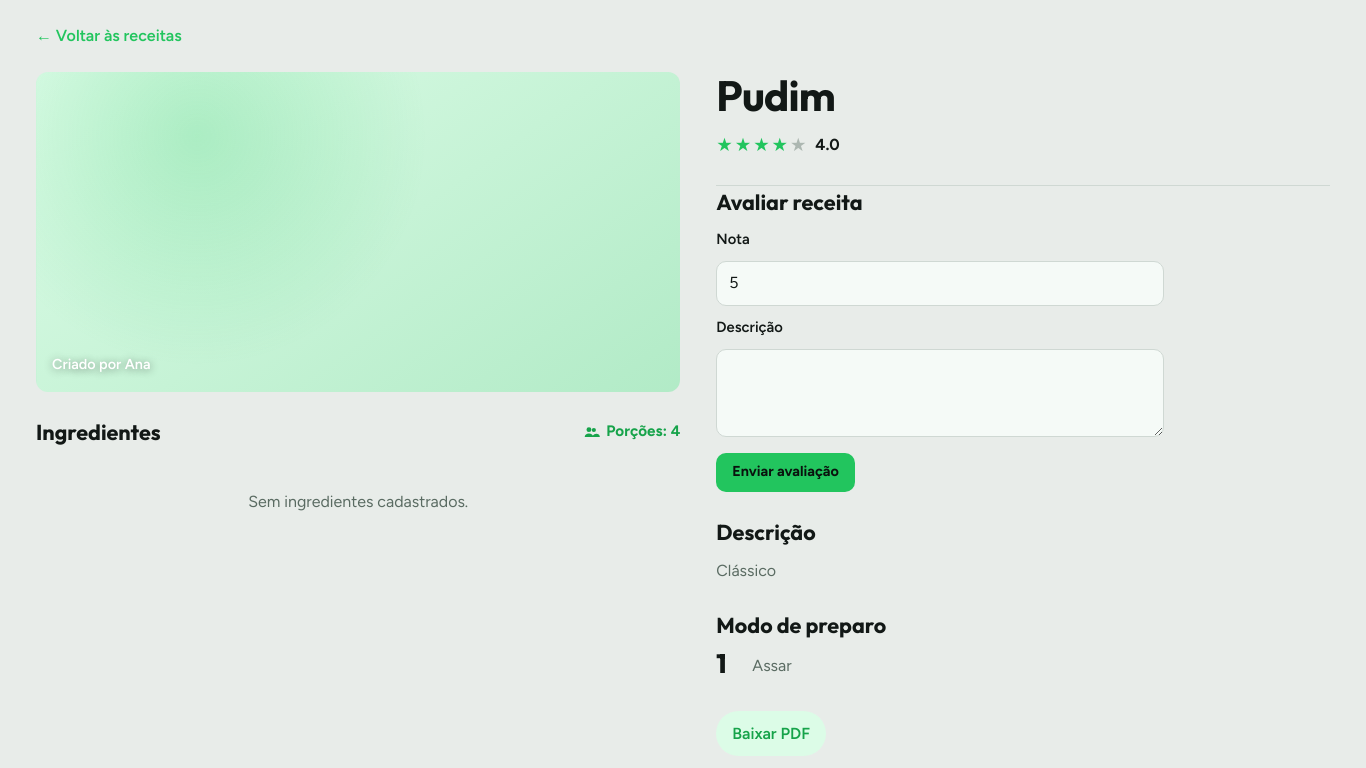
FN-UI-TASTER — avaliação no detalhe público › AC-06: 409 de negócio (ex.: receita própria) trata toast error sem sucesso falso
Expected: the heading "Pudim" is shown, x1=716 y1=69 x2=835 y2=122
Replace the text in the number field labelled "Nota" with "4" at (940, 283), box x1=716 y1=261 x2=1164 y2=306
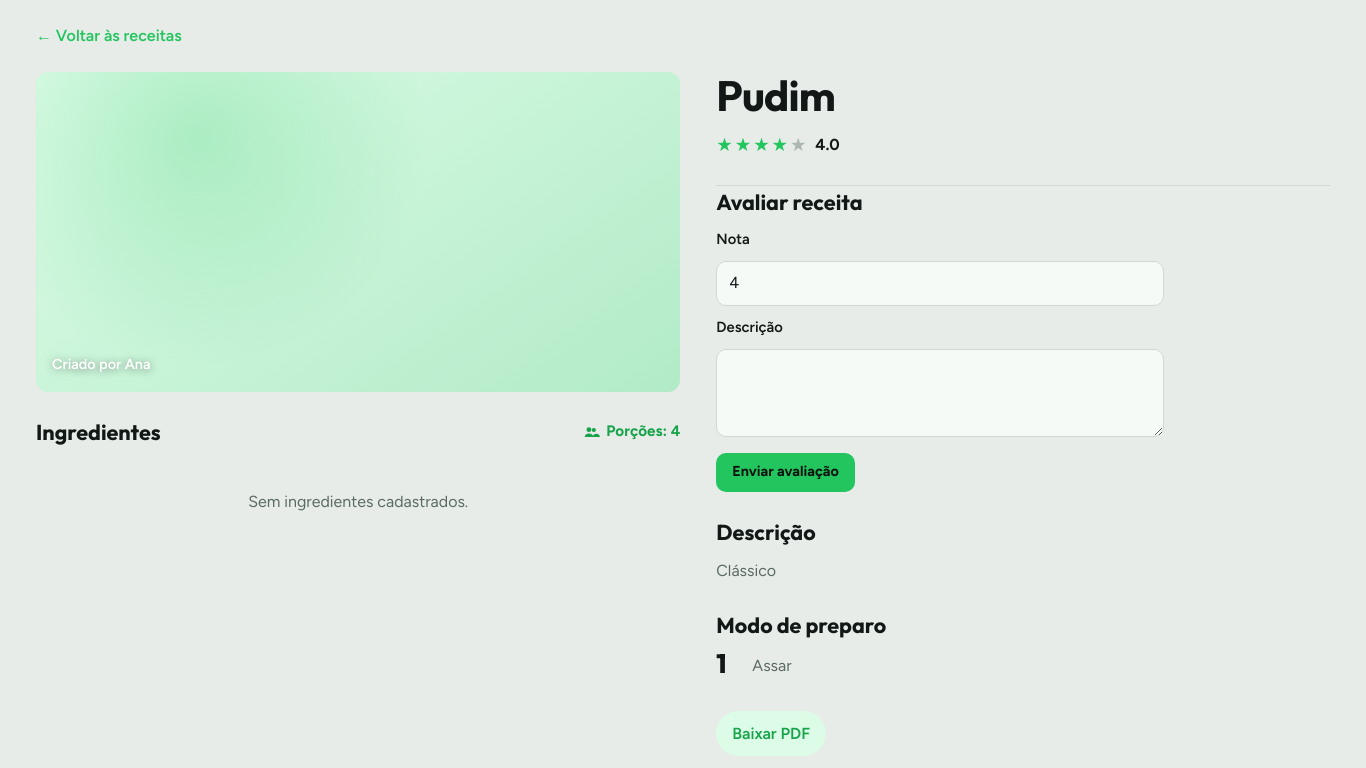
Type "Não deveria" into the text box labelled "Descrição" at (940, 393), box x1=716 y1=349 x2=1164 y2=437
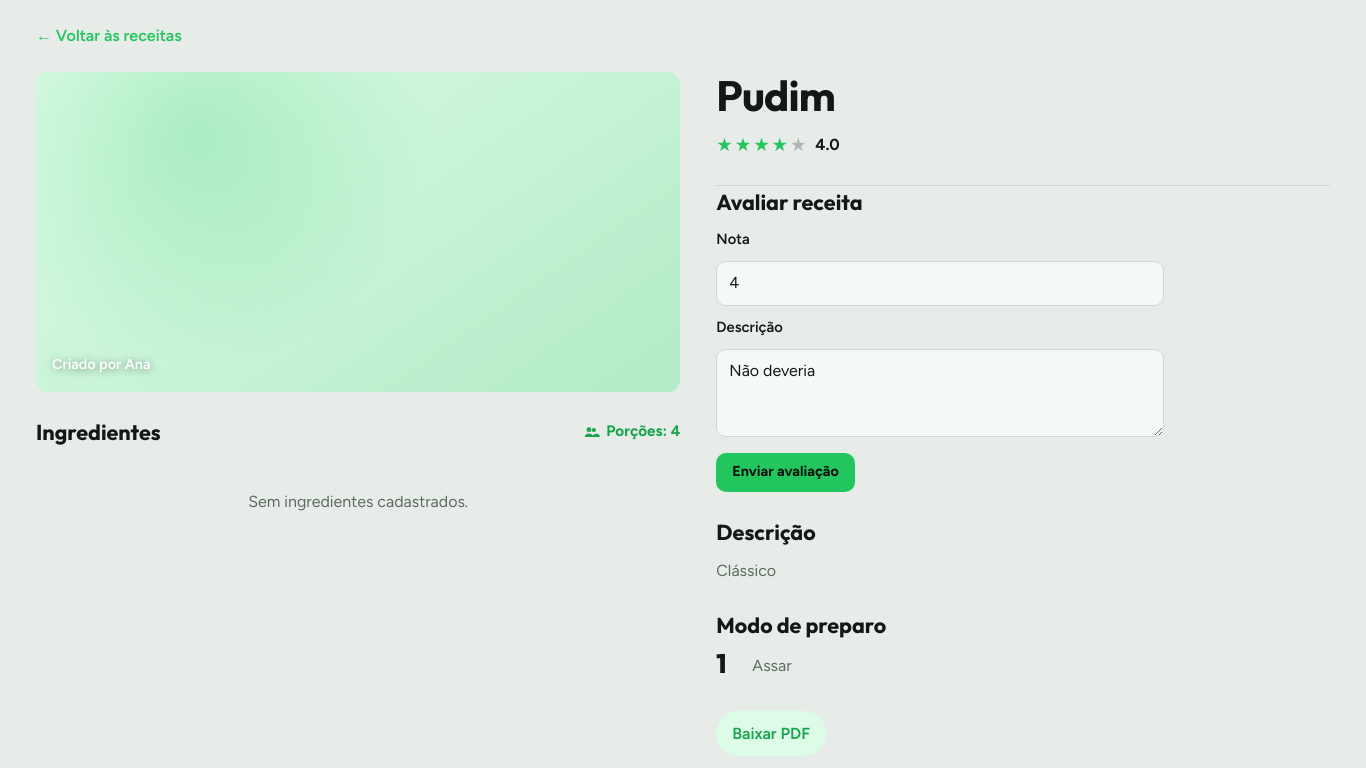
Click the button "Enviar avaliação" at (786, 472), box x1=716 y1=453 x2=855 y2=492
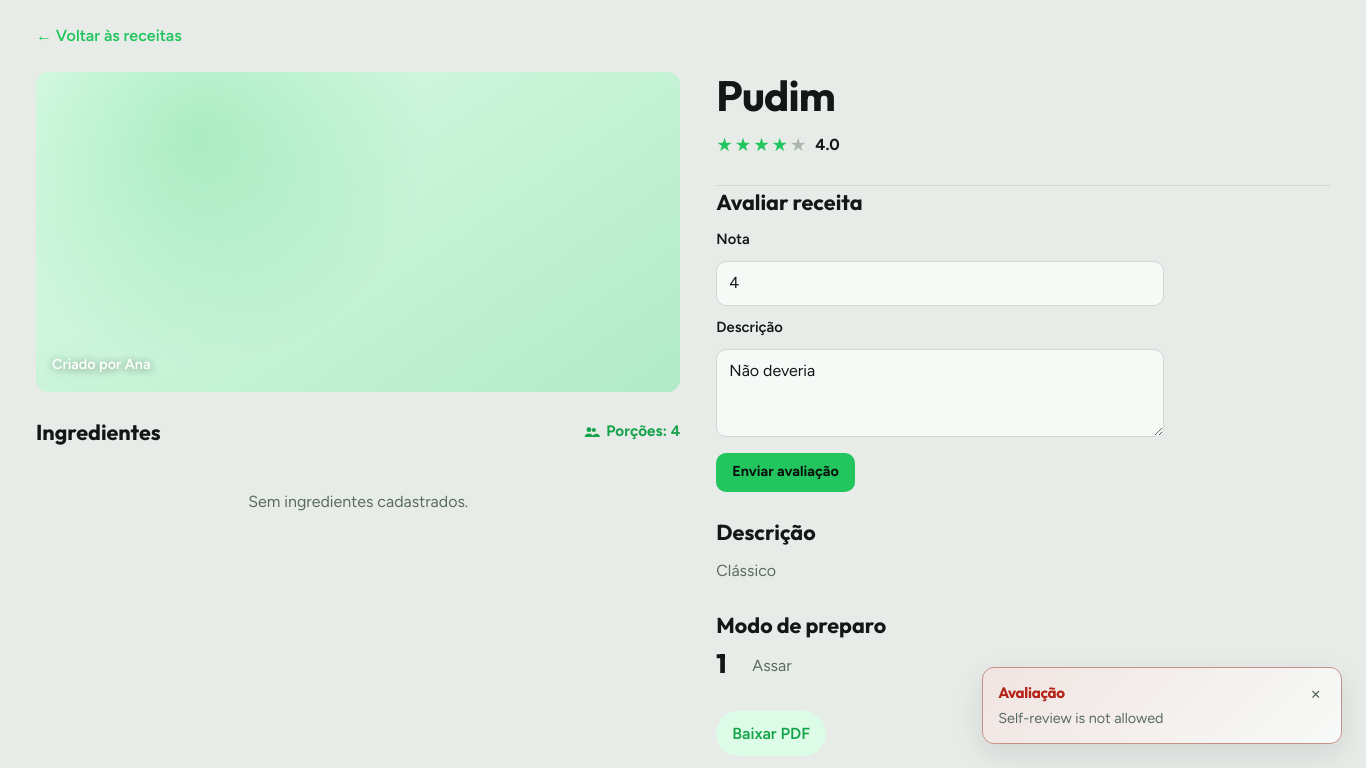
Result: the text "Self-review is not allowed" is shown at x1=998 y1=710 x2=1163 y2=728
